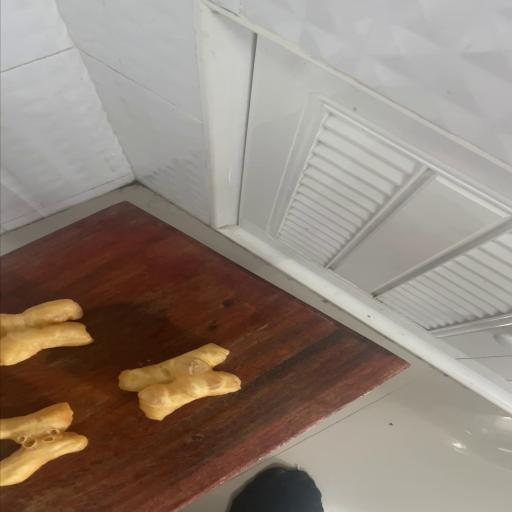street_golden_defect: (118, 344, 243, 420)
street_golden_good: (1, 300, 93, 364)
